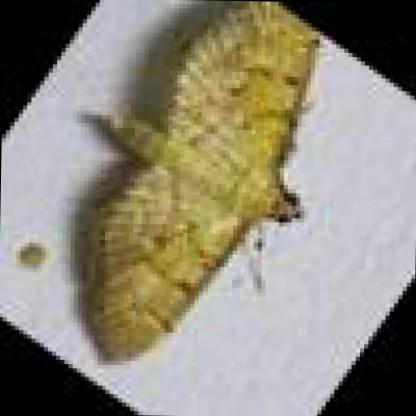Leaf Webber: (95, 1, 324, 365)
